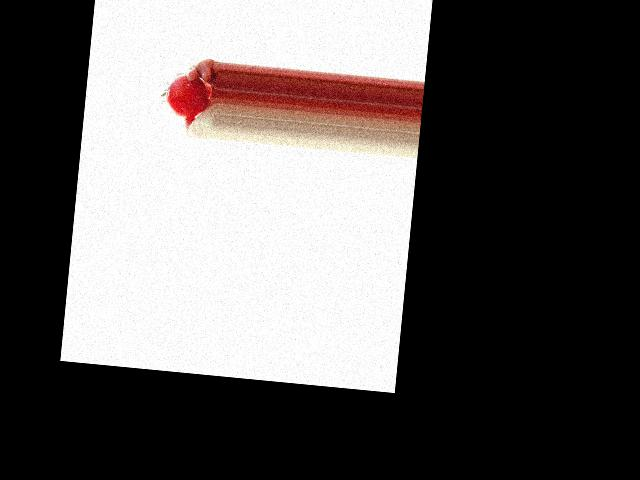tomato: (163, 71, 210, 119)
